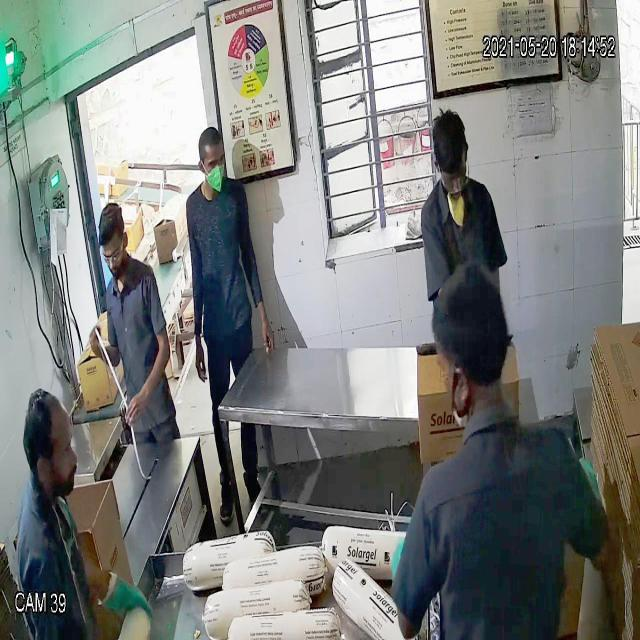glasses: (436, 154, 474, 201), (97, 244, 127, 272)
no-glass: (194, 151, 230, 176)
